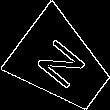N_SE: (31, 33, 93, 96)
